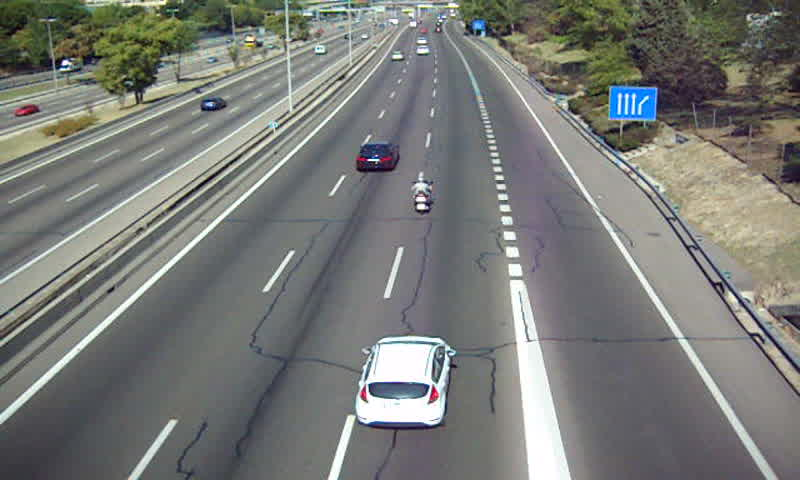car: (353, 336, 452, 428), (356, 142, 400, 173)
motorcycle: (410, 175, 435, 215)
